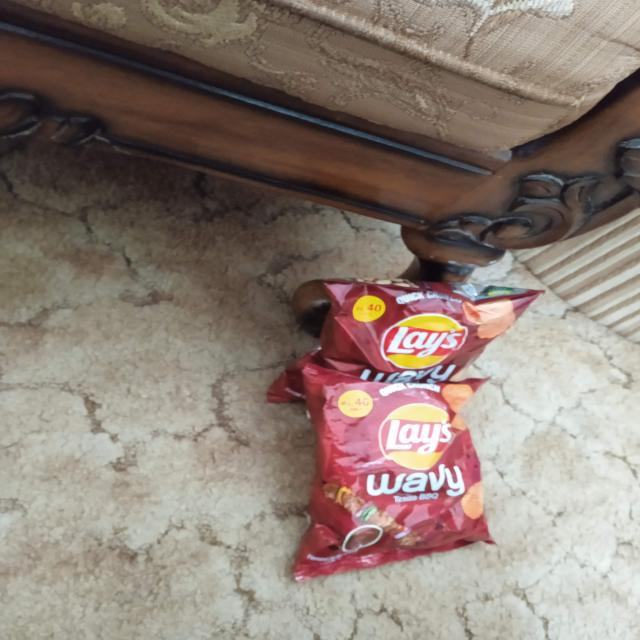Plastic: (302, 380, 492, 571), (327, 280, 536, 380)
